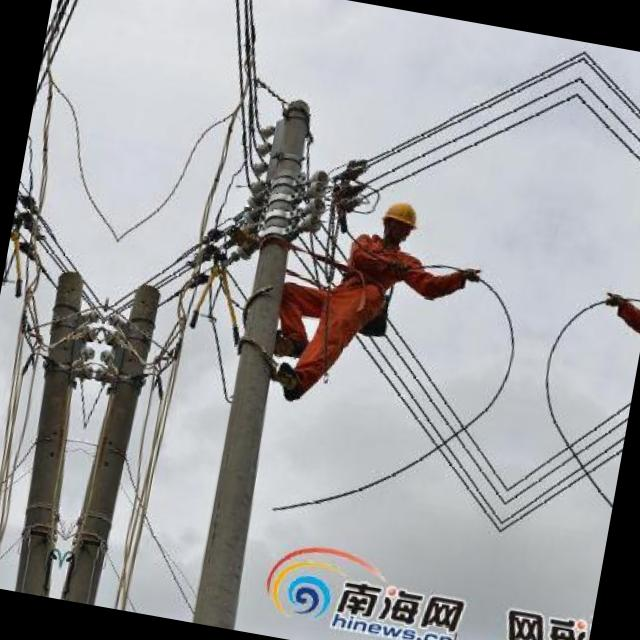helmet: (371, 193, 423, 246)
